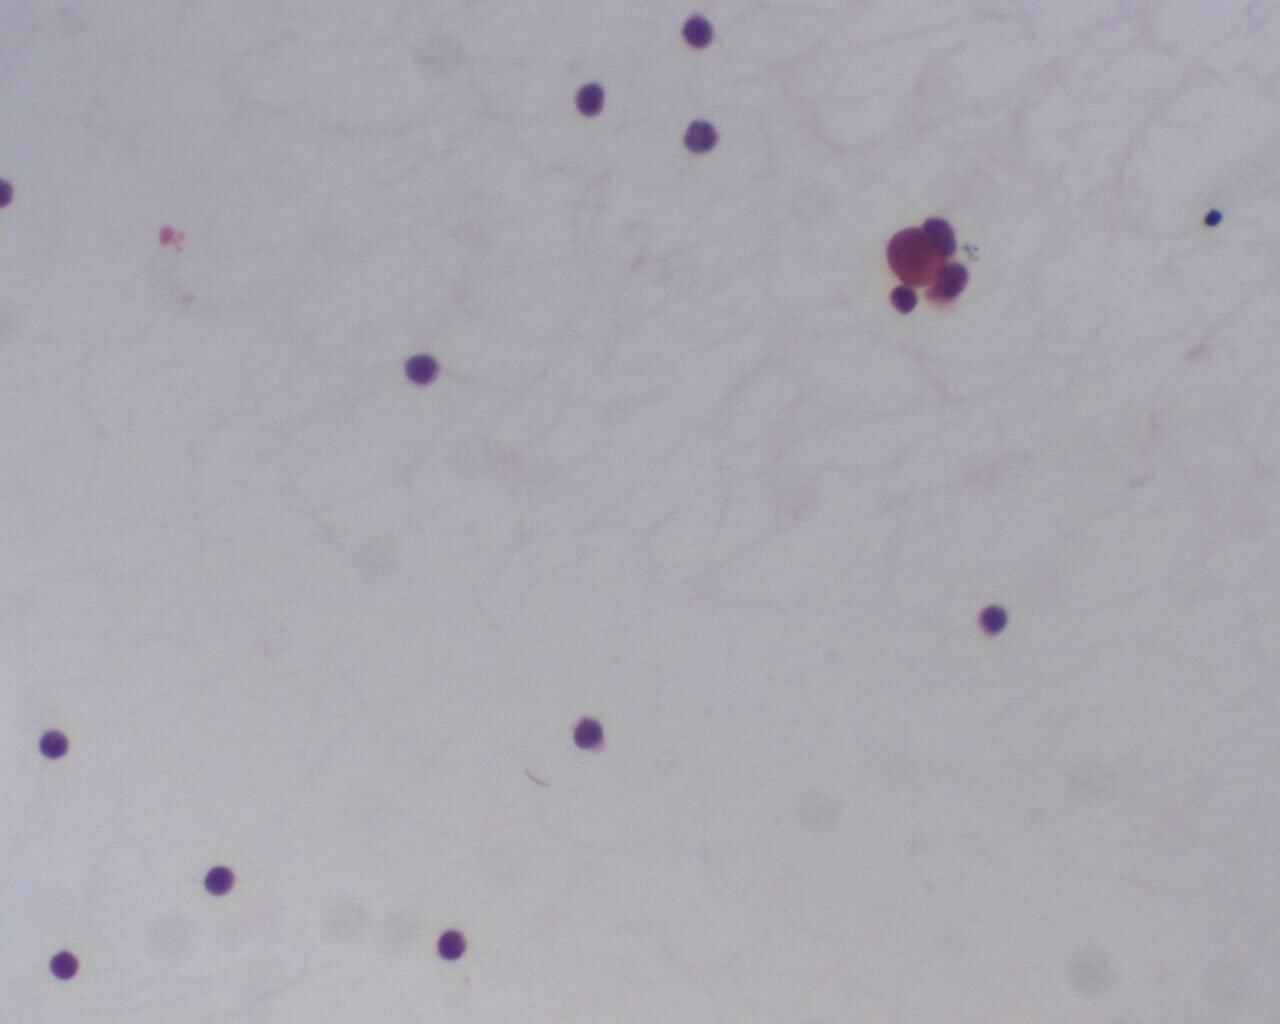ab: (885, 225, 945, 284)
lymph: (430, 926, 478, 969), (402, 349, 446, 389), (45, 945, 84, 988), (571, 80, 609, 117), (203, 864, 237, 899)
